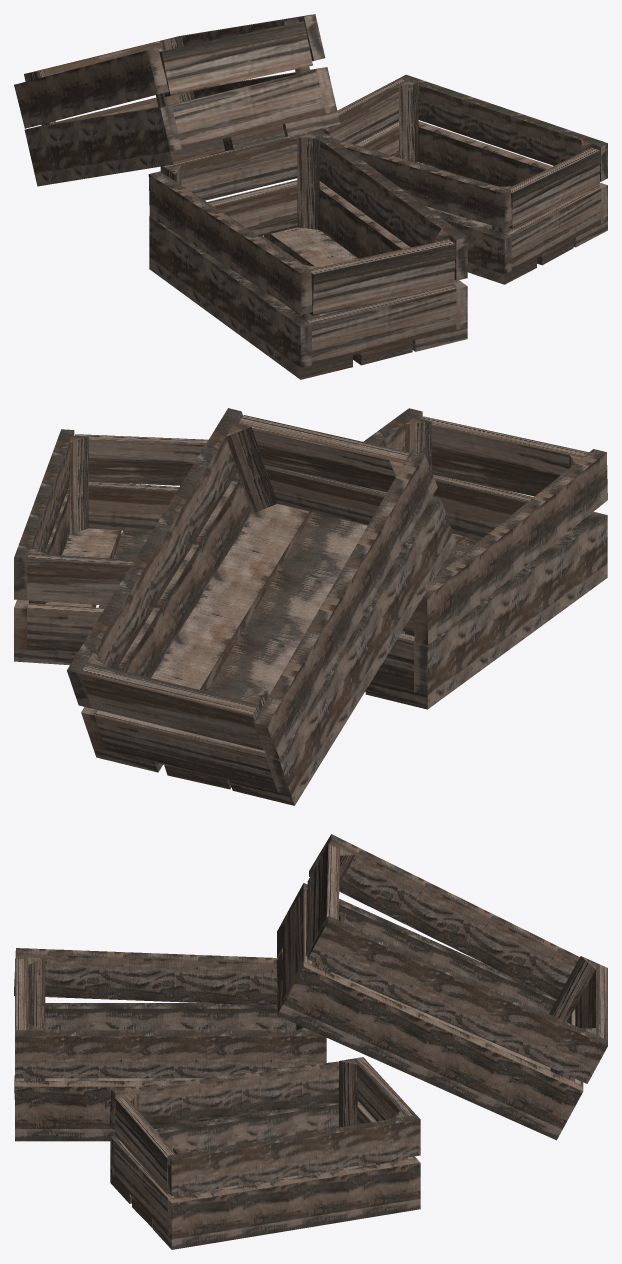
Rendered from cajas.obj.
The picture shows the model from 3 angles, top to bottom: view 1: azimuth 30°, elevation 25°; view 2: azimuth 150°, elevation 25°; view 3: azimuth 270°, elevation 25°; orthographic projection. The views are drawn at different scales.
Parts seen in each view (by area): view 1: Cube.004; view 2: Cube.004; view 3: Cube.004.
Boxes of the visible parts, x1,y1,x2,y2 form: Cube.004: [14, 14, 607, 379]; Cube.004: [14, 408, 607, 805]; Cube.004: [14, 834, 607, 1249].
Size of the model in its own units: 1.27 by 0.6853 by 1.65.
Materials: 1 (1 with a texture image).
